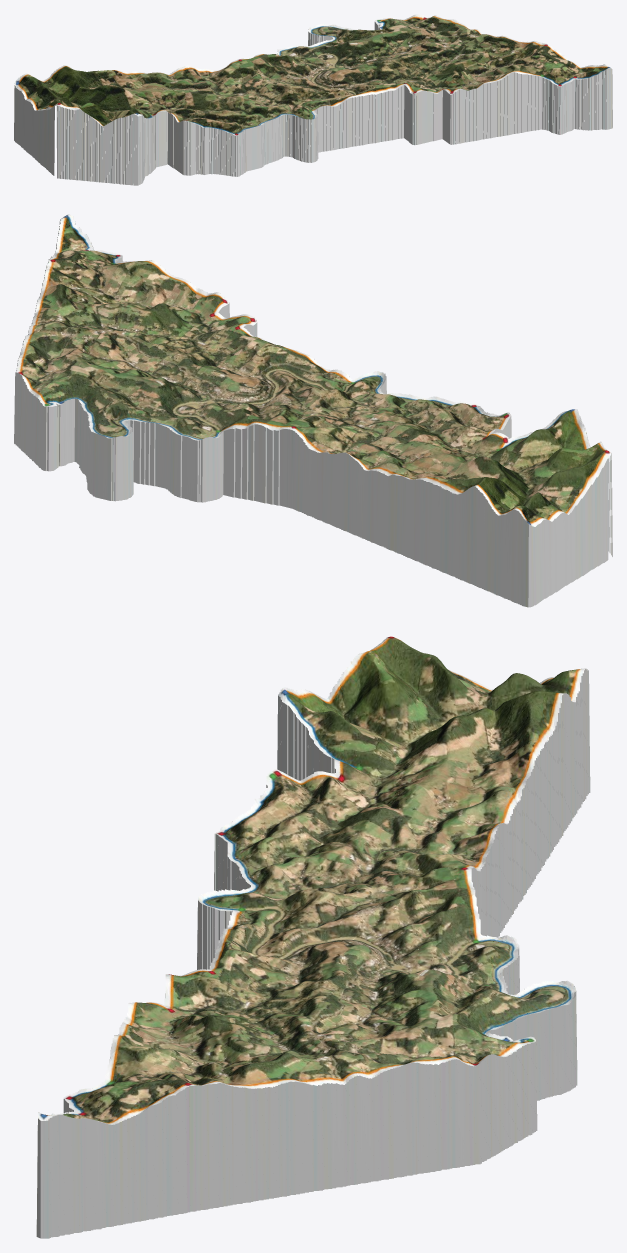
3 renders of one model, top to bottom at view 1: azimuth 30°, elevation 25°; view 2: azimuth 150°, elevation 25°; view 3: azimuth 270°, elevation 25°, orthographic. The views are drawn at different scales.
Size of the model in its own units: 1 by 0.1501 by 0.5113.
1 material, 1 textured.
